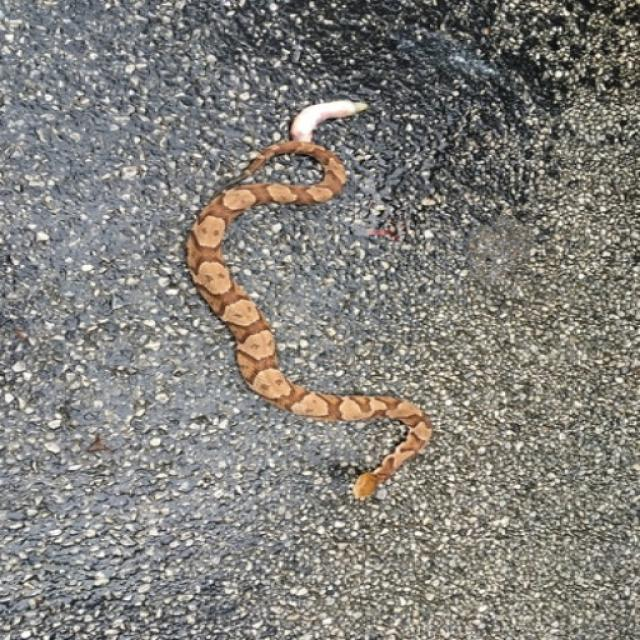snake: (173, 84, 455, 499)
